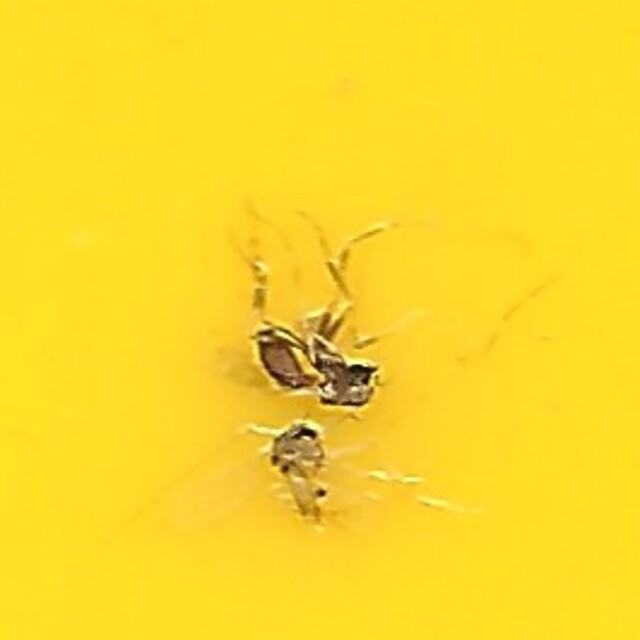Nematocera: (241, 217, 399, 423)
